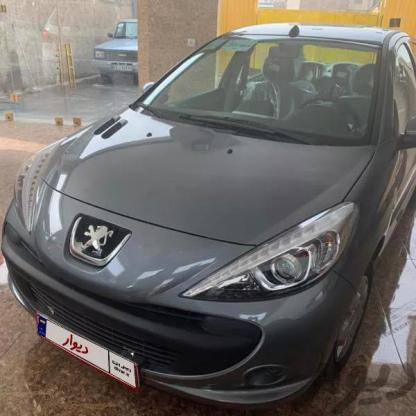Car: (0, 22, 416, 416), (88, 18, 144, 80)
